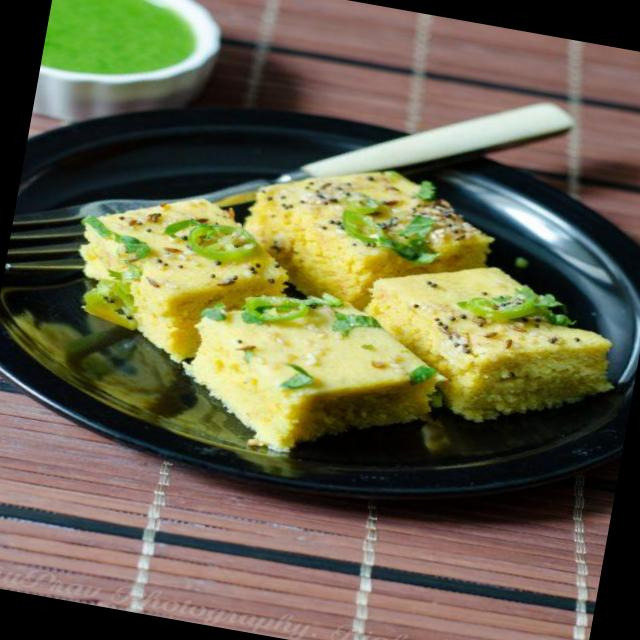dhokla: (66, 136, 640, 465)
